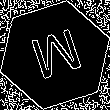M_S: (24, 23, 86, 87)
